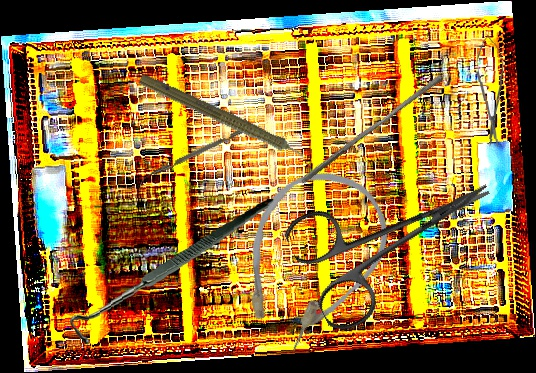Cannula: (210, 149, 409, 369)
Chopper: (136, 123, 257, 188)
Handpiece: (135, 70, 318, 172)
Hook Surgical: (60, 198, 286, 346)
Iris Scissors: (280, 137, 517, 338)
Micro Scissor: (474, 34, 508, 148)
Pusher: (299, 69, 445, 190)
